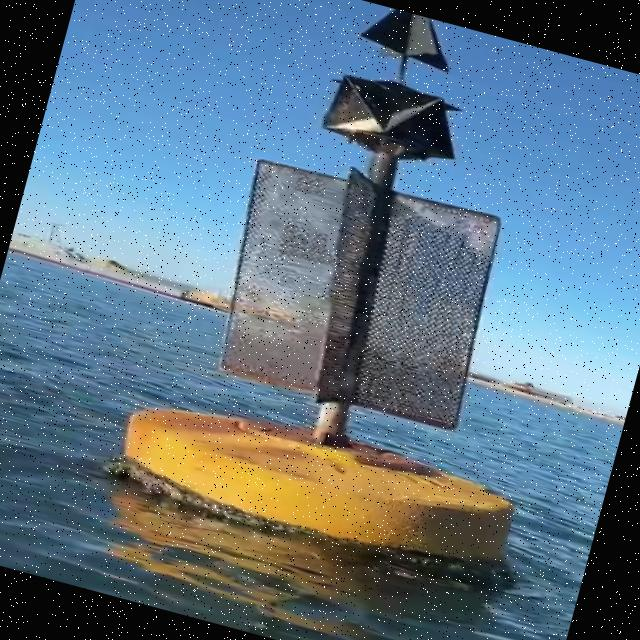marque: (105, 1, 640, 618)
